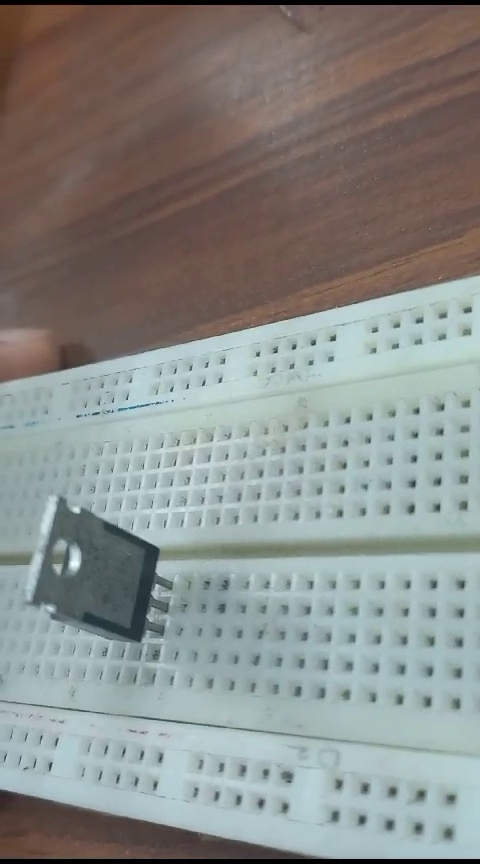voltage regulator: (24, 489, 180, 652)
